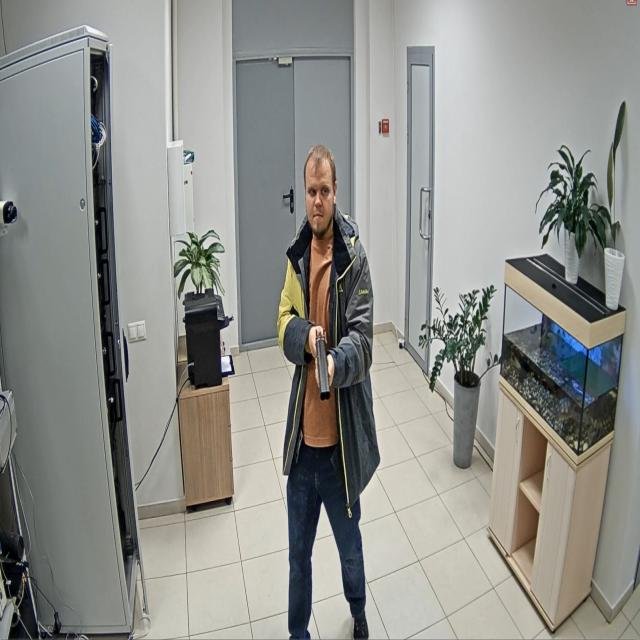-Gun: (315, 328, 330, 401)
